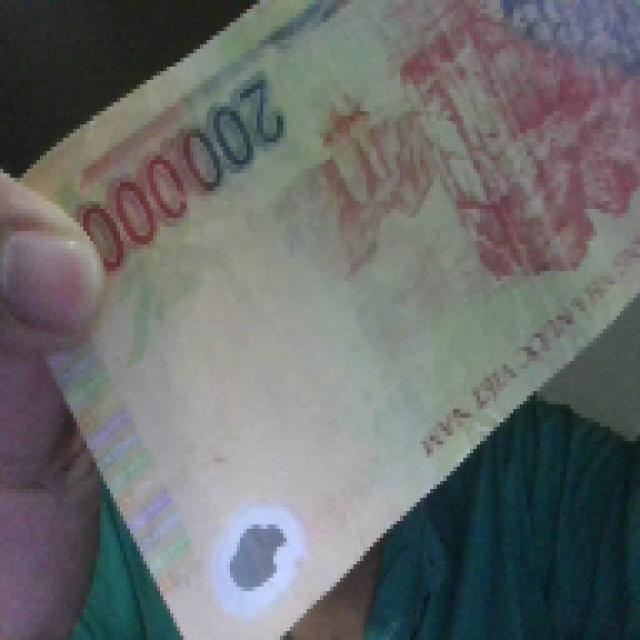200 000 VND: (11, 0, 638, 636)
